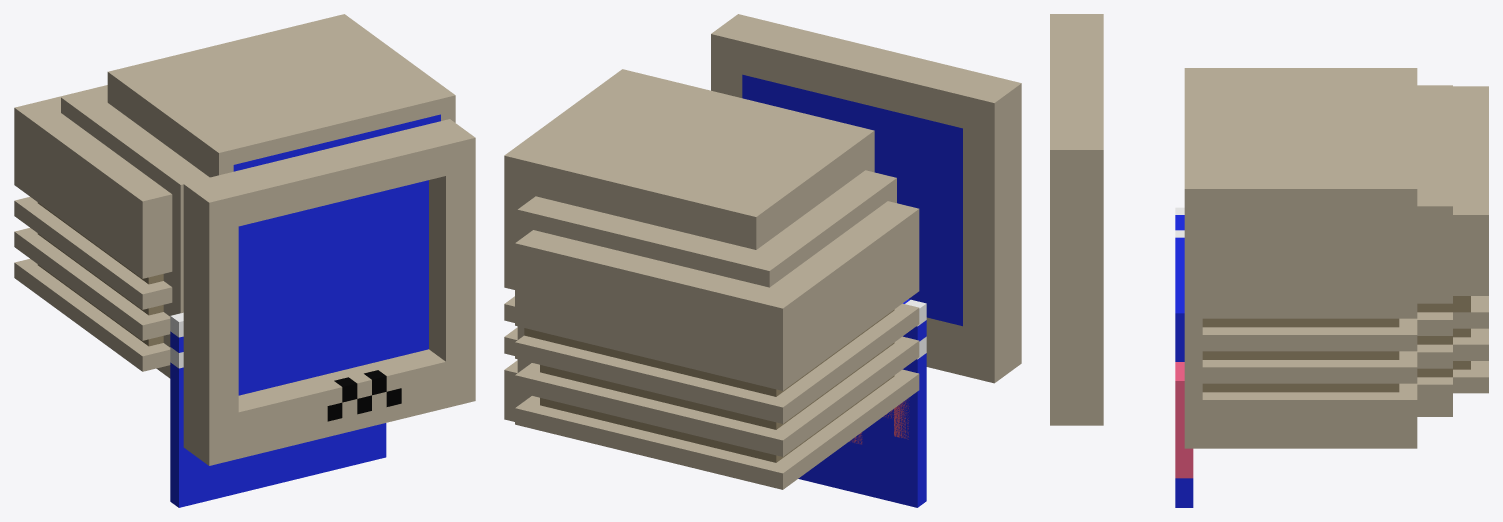
File: bsod.glb
The picture shows the model from 3 angles, left to right: view 1: azimuth 30°, elevation 25°; view 2: azimuth 150°, elevation 25°; view 3: azimuth 270°, elevation 25°; orthographic projection. The views are drawn at different scales.
Visible parts, largest first — view 1: Base, back, screen, mouth; view 2: back, Base, screen, side; view 3: back, Base, screen, l1.
Boxes of the visible parts, bbox=[...] form: Base: bbox=[183, 119, 475, 465]; back: bbox=[14, 14, 455, 378]; screen: bbox=[170, 312, 386, 507]; mouth: bbox=[327, 370, 401, 421]; back: bbox=[504, 69, 919, 489]; Base: bbox=[711, 14, 1021, 383]; screen: bbox=[798, 299, 926, 507]; side: bbox=[540, 332, 775, 396]; back: bbox=[1184, 68, 1488, 448]; Base: bbox=[1050, 14, 1103, 425]; screen: bbox=[1175, 207, 1193, 507]; l1: bbox=[1175, 362, 1193, 478].
Bounding box in the file's own units: 21 × 23 × 24.53.
Materials: 13 (13 with a texture image).
